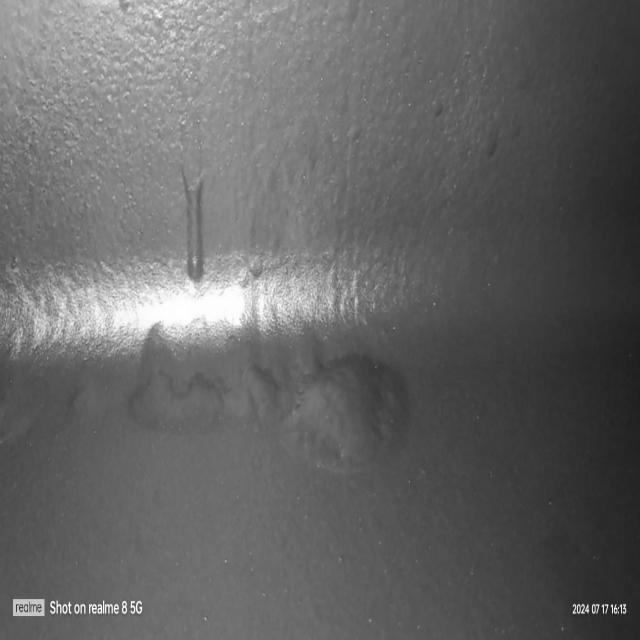paint drips: (166, 149, 223, 299)
